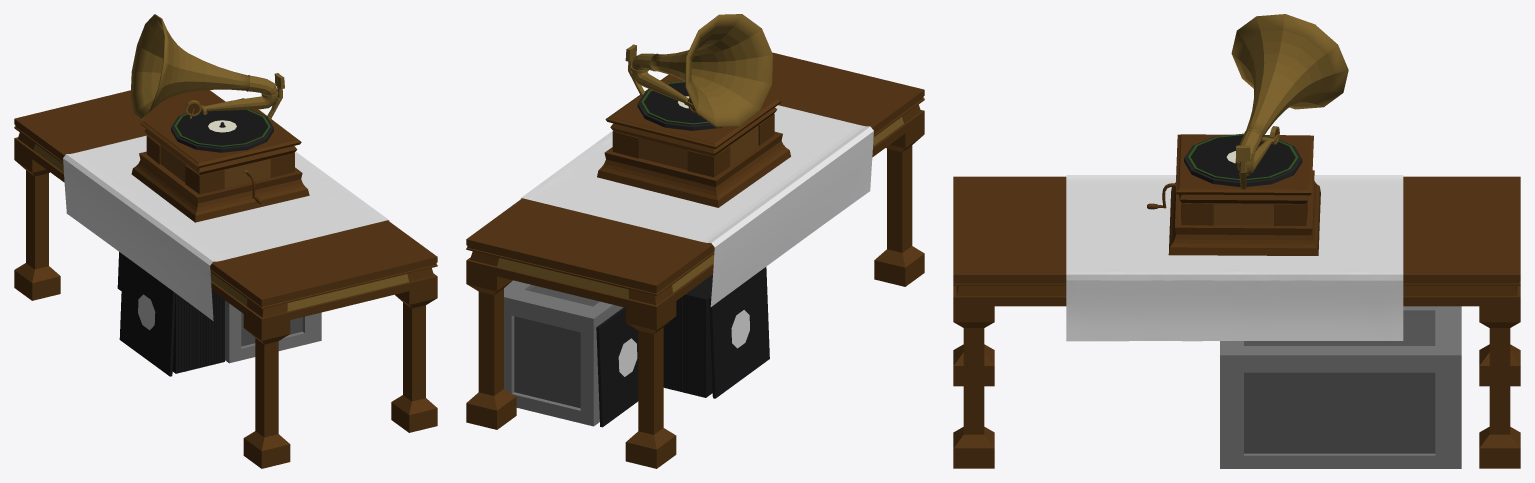
File: gramaphone.fbx
3 views of the same model, side by side, from view 1: azimuth 30°, elevation 25°; view 2: azimuth 150°, elevation 25°; view 3: azimuth 270°, elevation 25° (orthographic). The views are drawn at different scales.
Visible parts, largest first — view 1: Cube.005; view 2: Cube.005; view 3: Cube.005.
Part boxes in pixels (bbox=[...]): Cube.005: bbox=[14, 14, 437, 468]; Cube.005: bbox=[466, 14, 924, 468]; Cube.005: bbox=[953, 14, 1520, 468].
Size of the model in its own units: 189 by 141 by 80.75.
